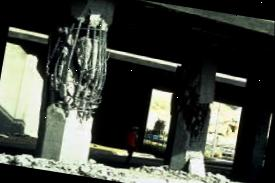spalling: (47, 13, 107, 118), (176, 62, 209, 151)
